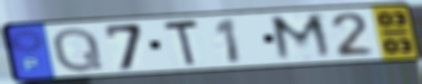1: (210, 17, 243, 66)
2: (328, 11, 377, 59)
7: (103, 22, 145, 72)
M: (267, 12, 338, 63)
Q: (50, 25, 107, 74)
T: (160, 18, 202, 69)
